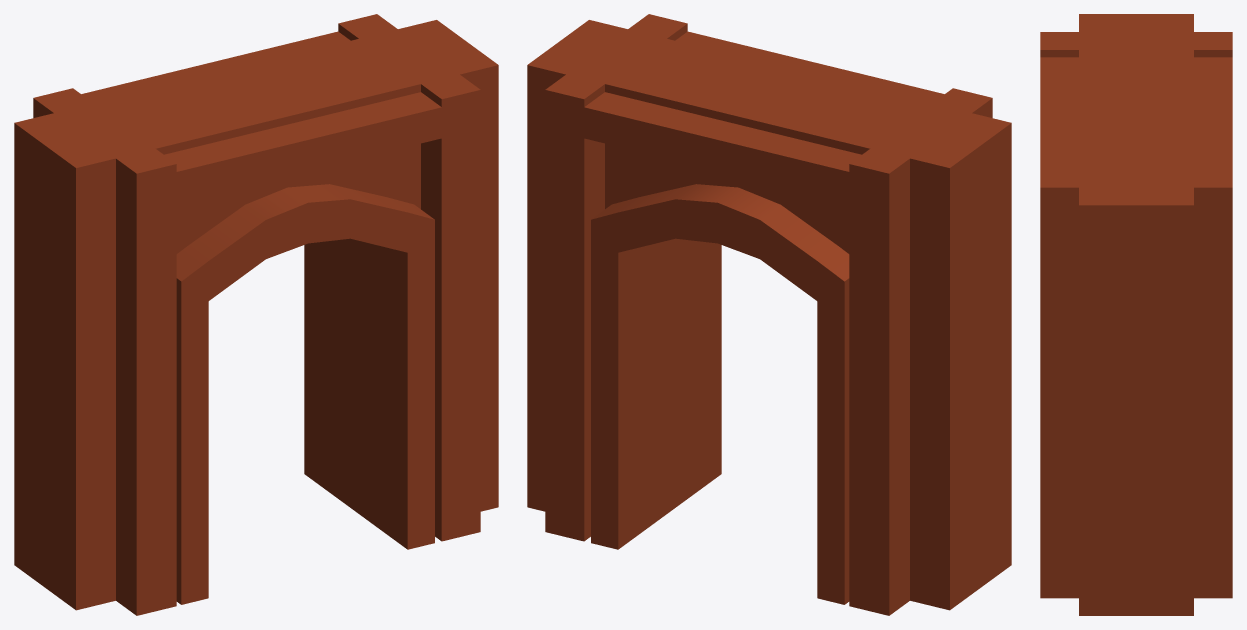
File: porta.fbx
3 views of the same model, side by side, from view 1: azimuth 30°, elevation 25°; view 2: azimuth 150°, elevation 25°; view 3: azimuth 270°, elevation 25° (orthographic). The views are drawn at different scales.
Visible parts, largest first — view 1: pCube2; view 2: pCube2; view 3: pCube2.
Part boxes in pixels (x1,y1,x2,y2): pCube2: (14, 14, 498, 615); pCube2: (527, 14, 1011, 615); pCube2: (1040, 14, 1232, 615).
Bounding box in the file's own units: 400 × 400 × 170.
